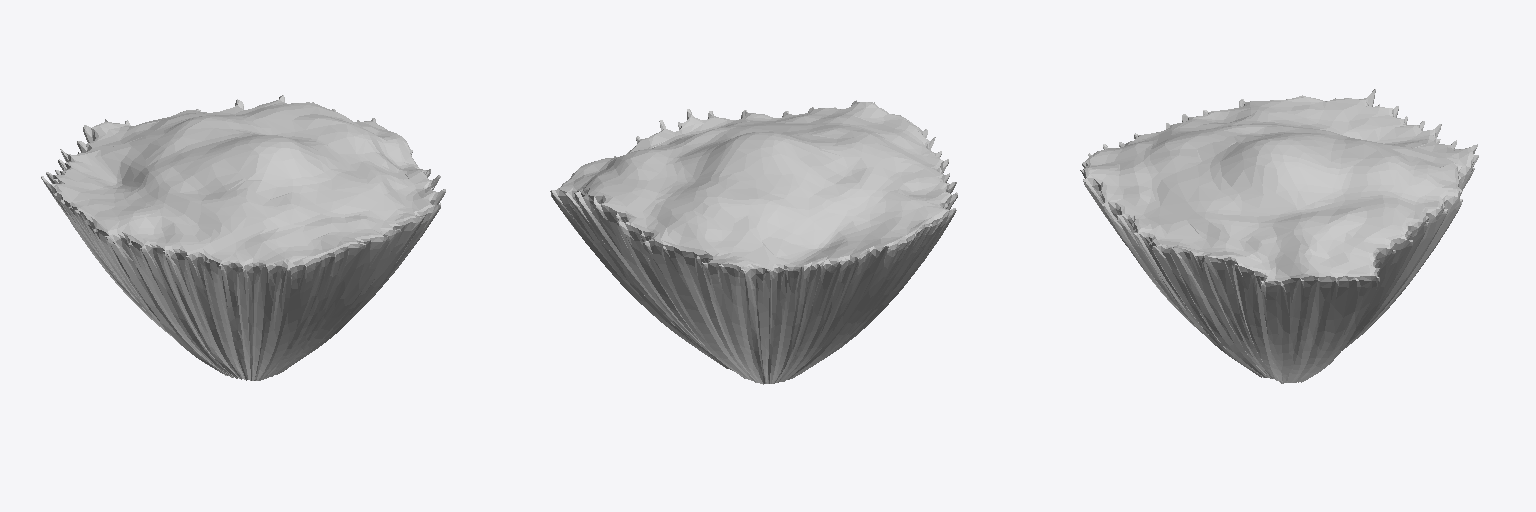
Rendered from iceberg.obj.
3 views of the same model, side by side, from view 1: azimuth 30°, elevation 25°; view 2: azimuth 150°, elevation 25°; view 3: azimuth 270°, elevation 25° (orthographic).
Visible parts, largest first — view 1: Plane; view 2: Plane; view 3: Plane.
Boxes of the visible parts, x1,y1,x2,y2 form: Plane: [41, 95, 445, 380]; Plane: [550, 100, 957, 384]; Plane: [1080, 89, 1478, 383].
Size of the model in its own units: 3.74 by 2.39 by 3.81.